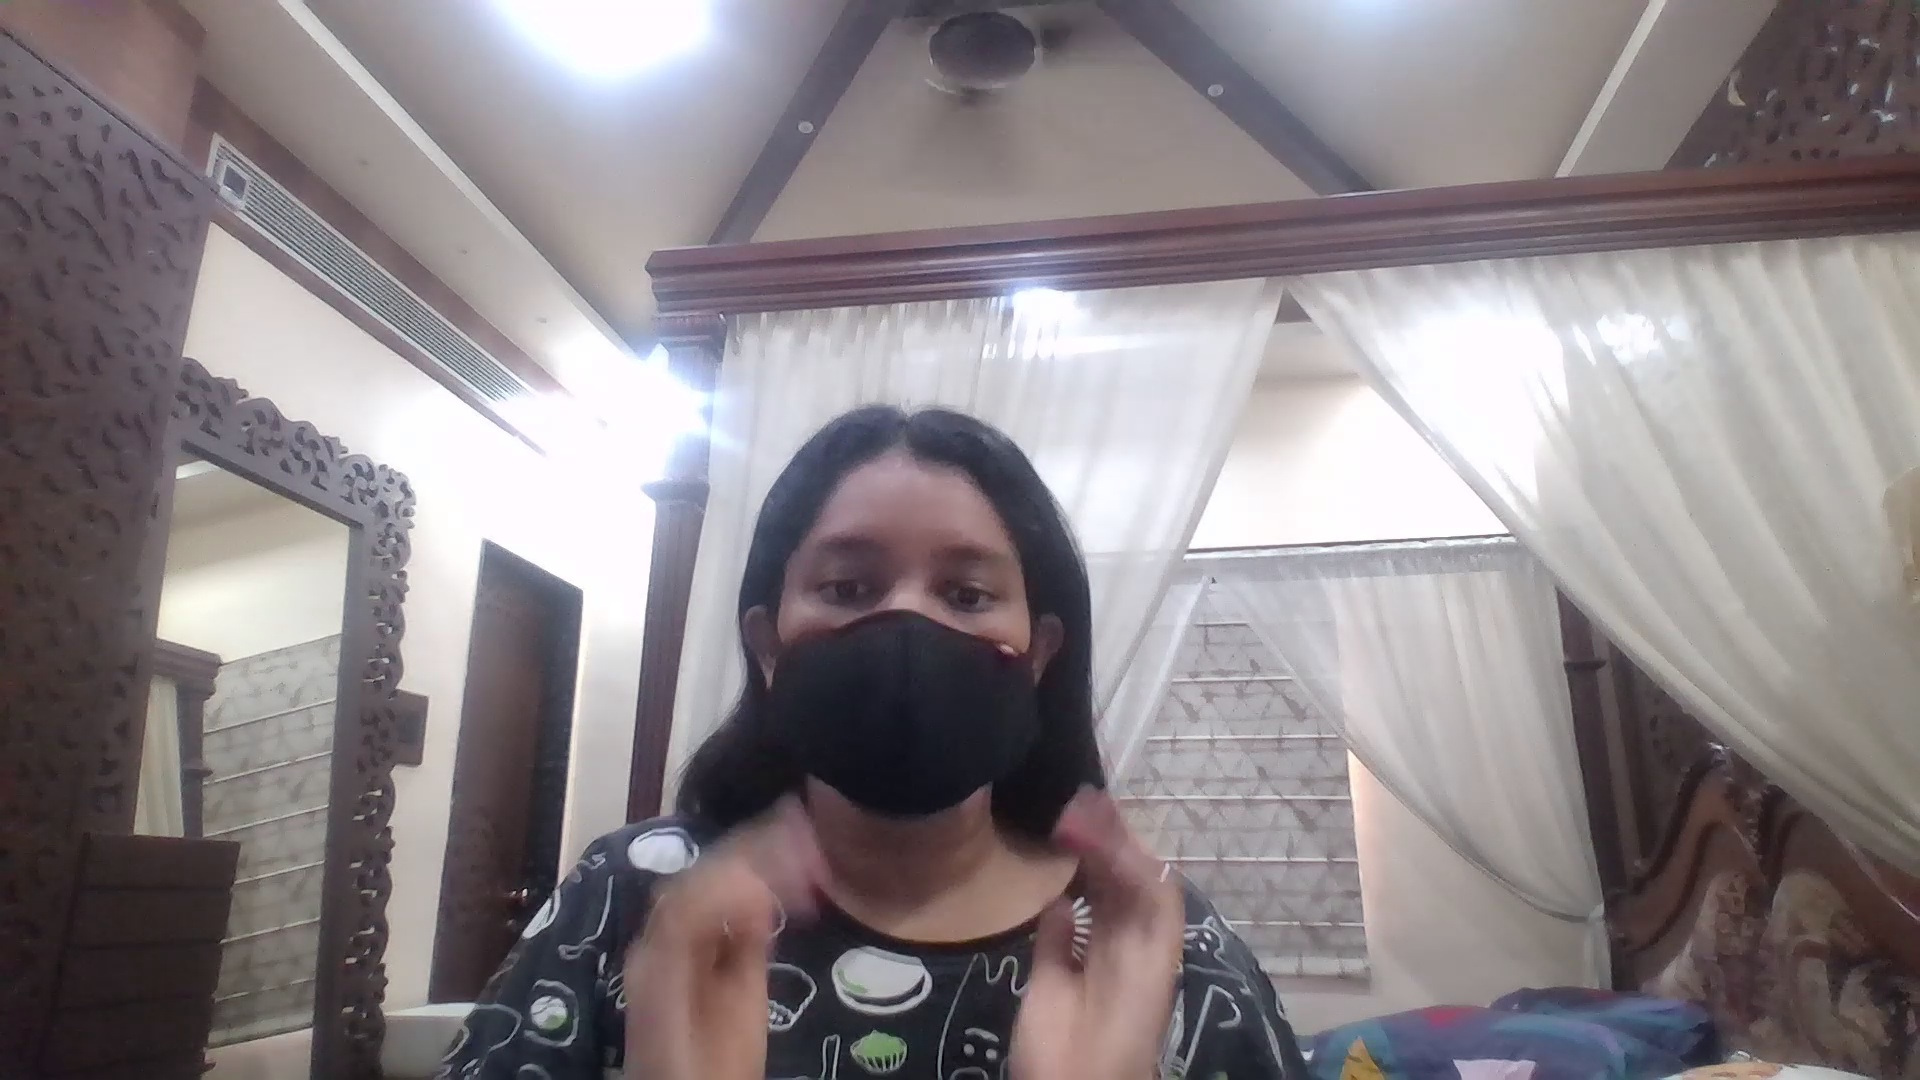Mask: (767, 634, 1045, 814)
